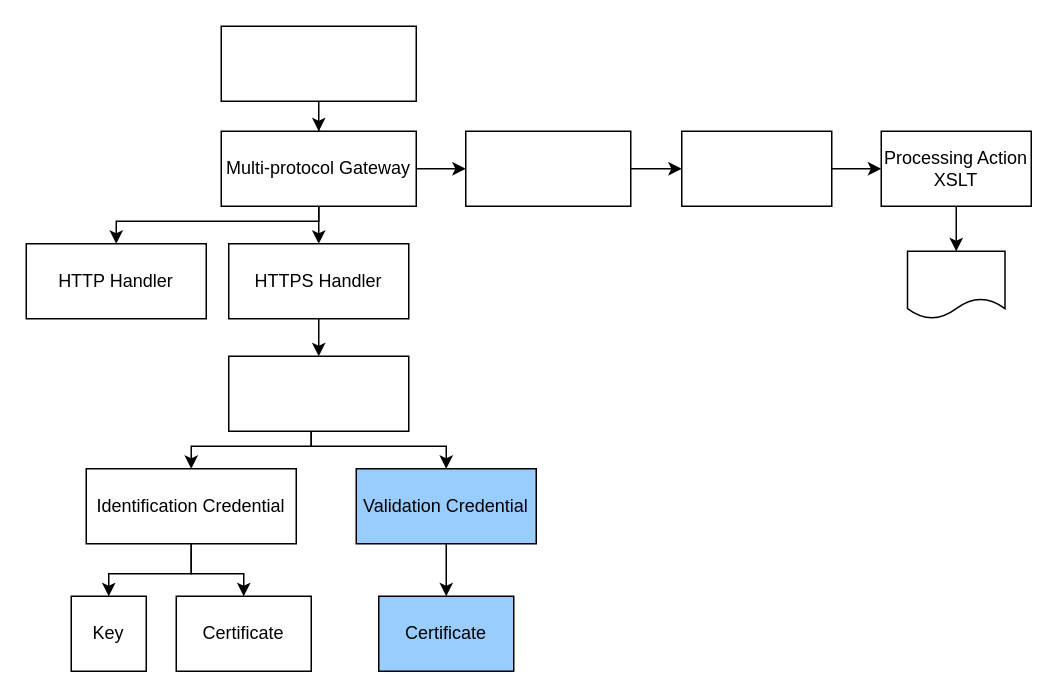
Image size: 1058x698. Some labels were removed from this diagram. The shapes that lost their labels are listed below. From the top down, each one's box as (x1, y1, x2, y2) in pixels, then its label:
(220, 25, 416, 101): Application Domain
(464, 130, 631, 206): Processing Policy
(680, 130, 832, 206): Processing Rule
(906, 250, 1005, 319): XSLT
(227, 355, 409, 431): TLS Server Profile
